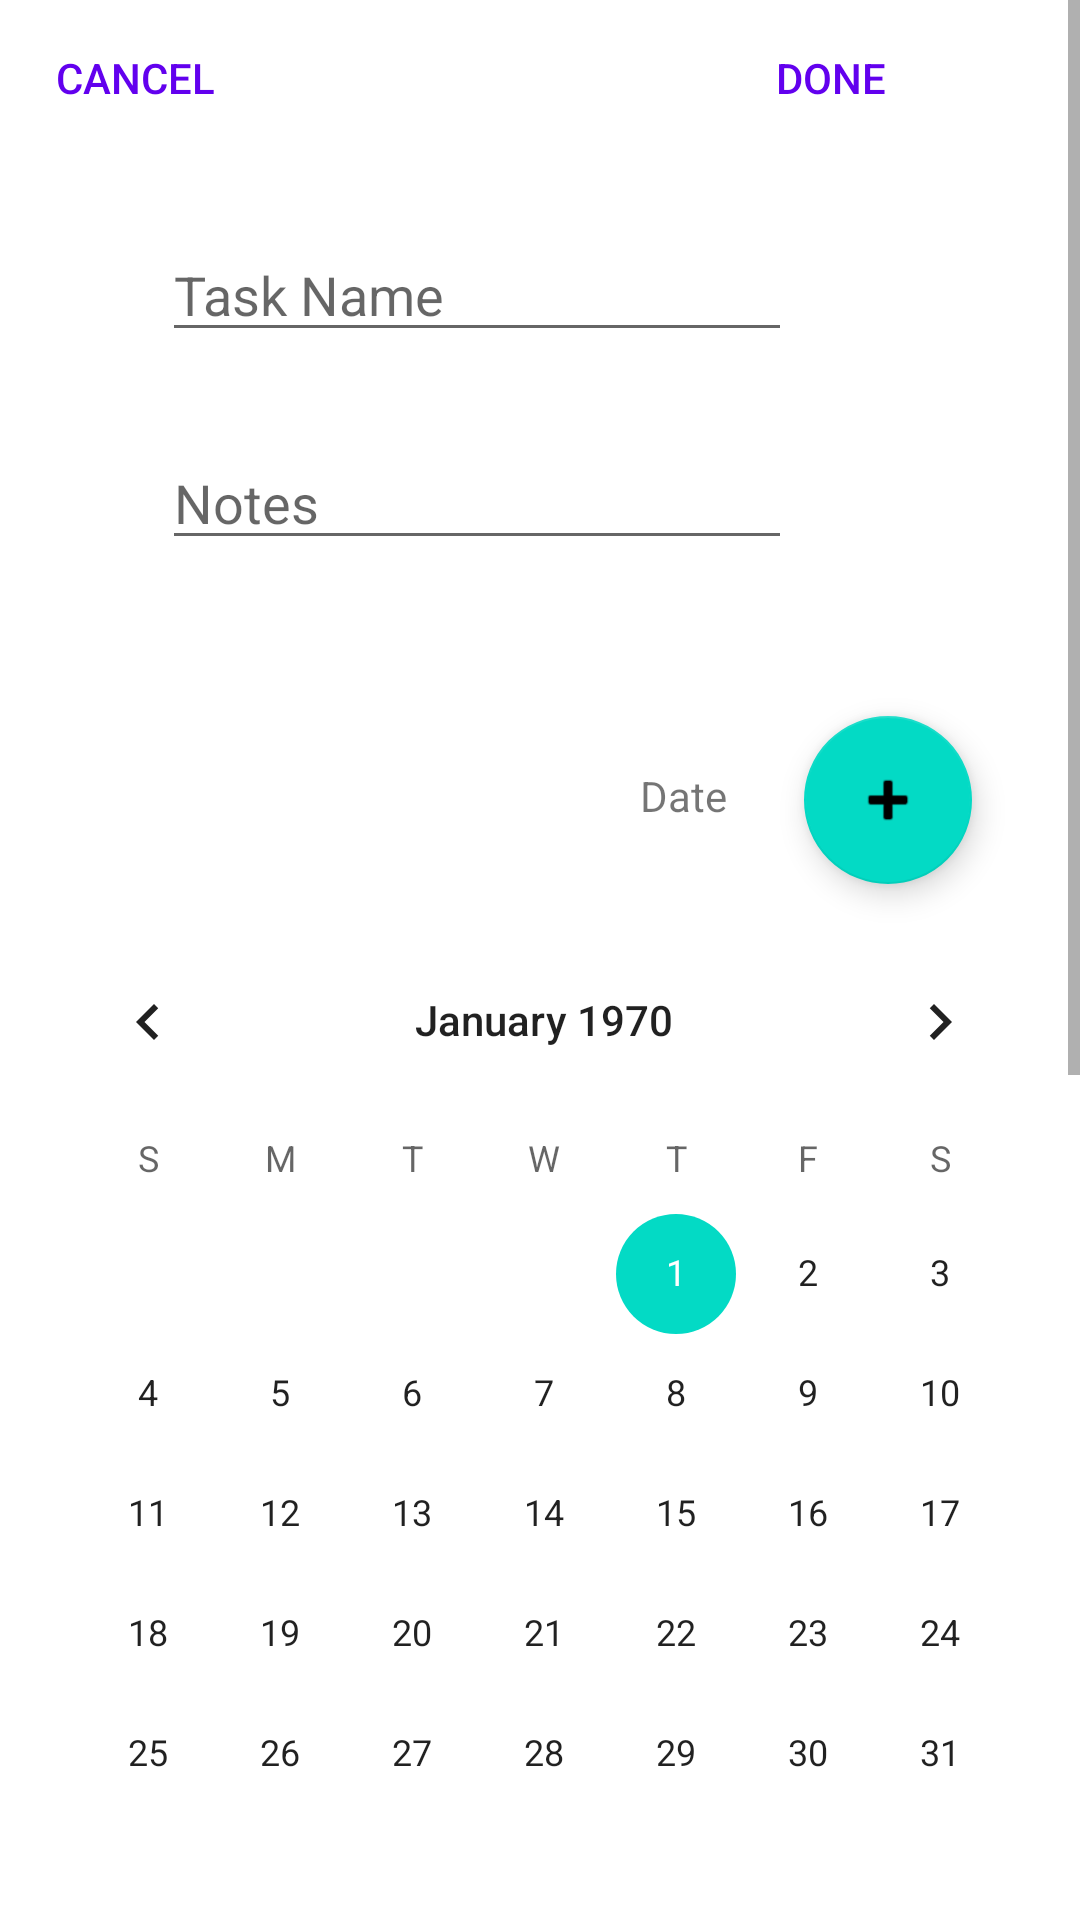

Where icons sit on this 1080w x 1920h app screen, as (x1, y1, x2, y2):
add: (804, 716, 972, 884)
